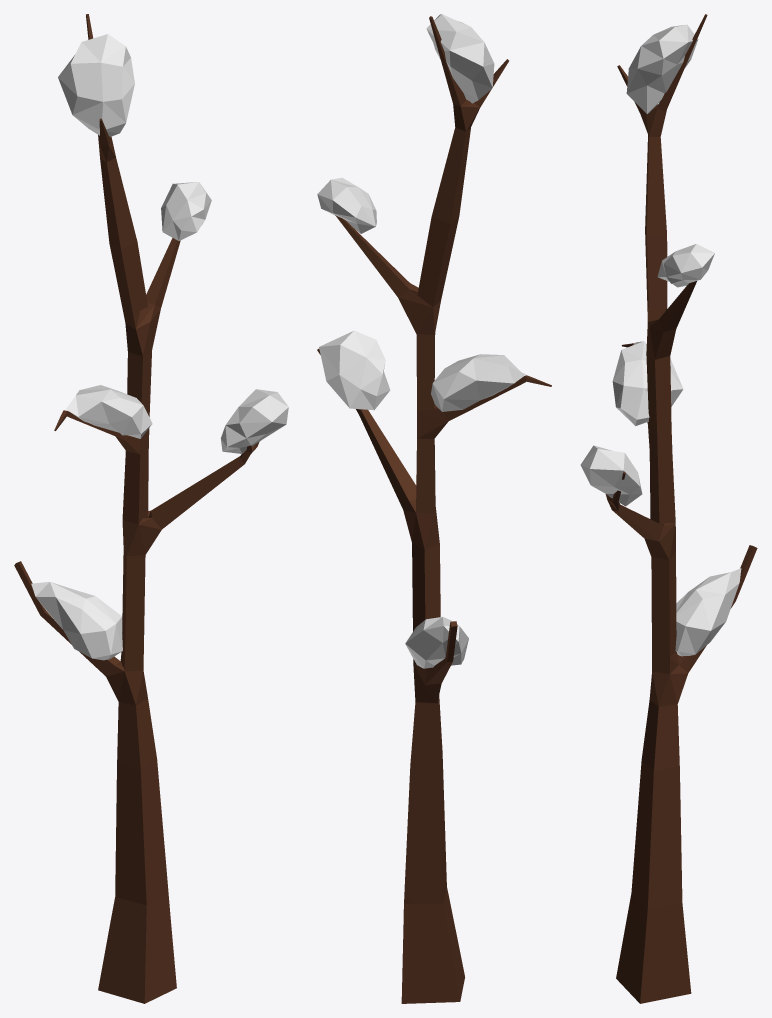
Rendered from FH_DryTree1.fbx.
The picture shows the model from 3 angles, left to right: view 1: azimuth 30°, elevation 25°; view 2: azimuth 150°, elevation 25°; view 3: azimuth 270°, elevation 25°; orthographic projection. The views are drawn at different scales.
Visible parts, largest first — view 1: Plane.001; view 2: Plane.001; view 3: Plane.001.
Boxes of the visible parts, bbox=[...] form: Plane.001: bbox=[14, 14, 288, 1003]; Plane.001: bbox=[317, 14, 551, 1003]; Plane.001: bbox=[580, 14, 757, 1003].
Size of the model in its own units: 1899 by 7776 by 1297.
